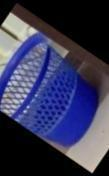Bote de Basura: (0, 26, 109, 158)
